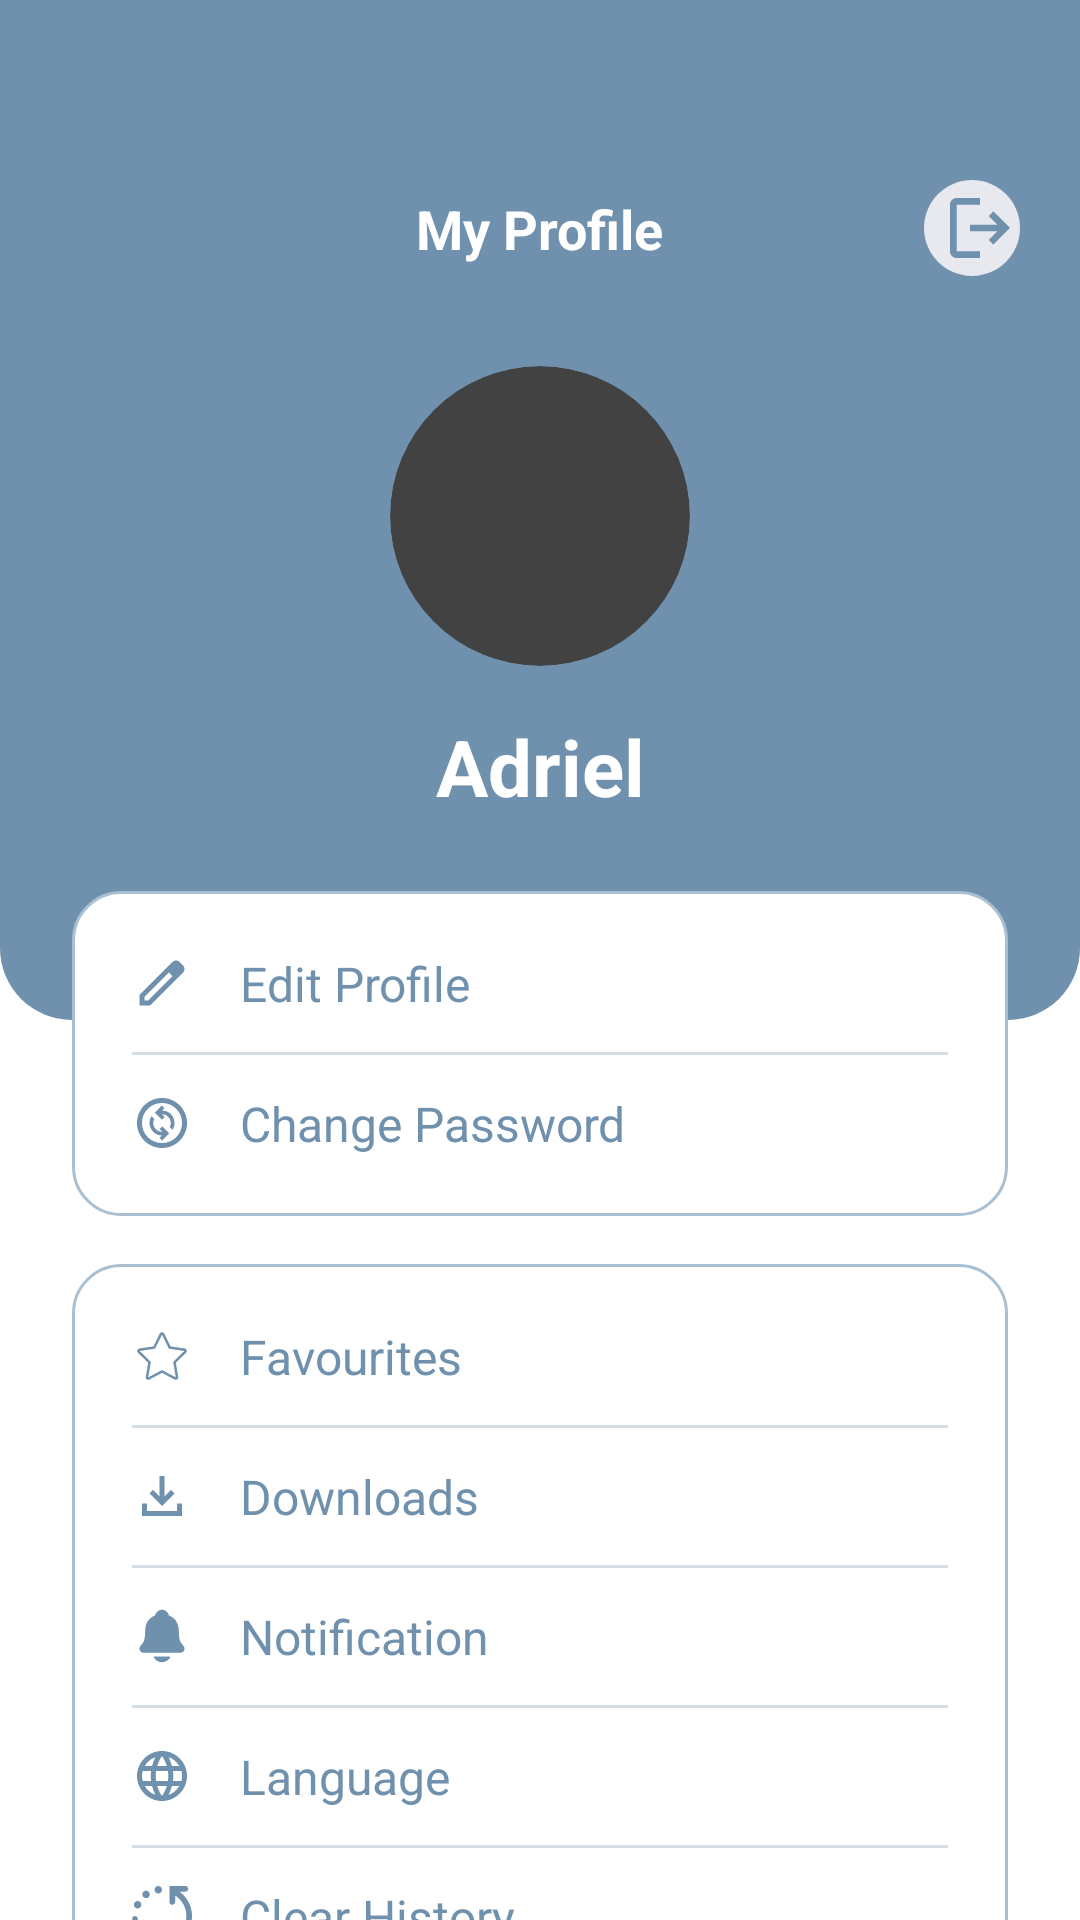

Where to tap for icons on this 1080*1920 app screen, as [x,y]:
star: [162,1356]
